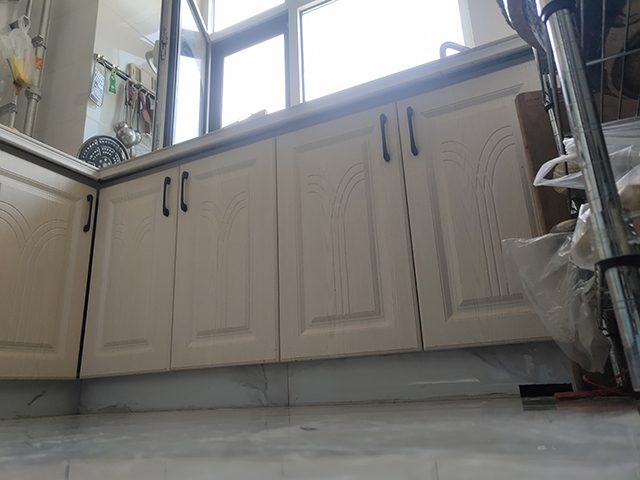cabinet: (80, 62, 515, 404)
